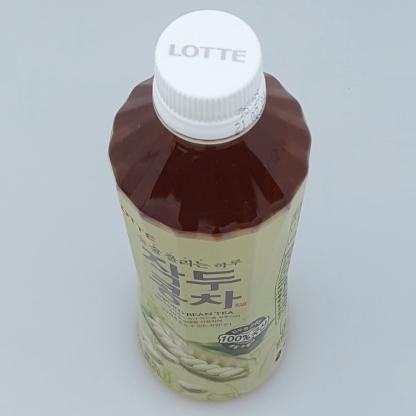--------------500ML: (106, 9, 313, 405)
